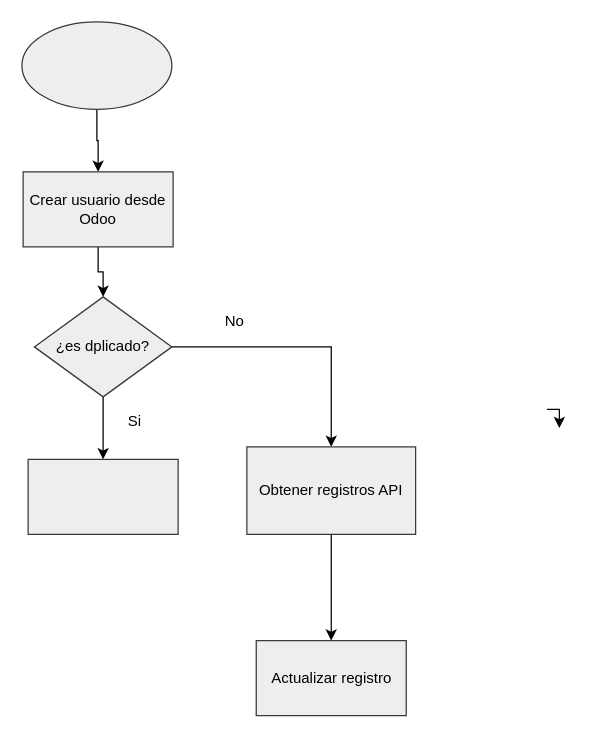
Some shapes in this 591 by 738 pixel diagram are drawn without their labels. Here are the shapes that lost their labels. From the top down, the centre of each, then its label:
At [96,65]: "Inicio".
At [102,496]: "Enviar mensaje de validacion".
